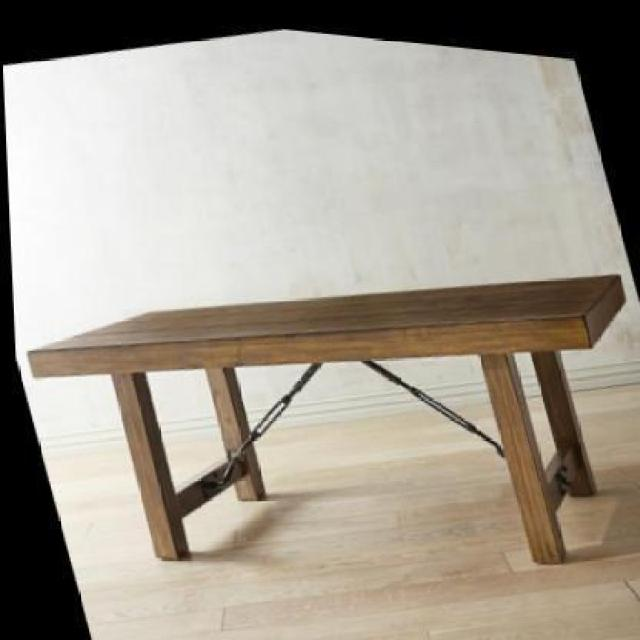tables: (26, 272, 626, 565)
